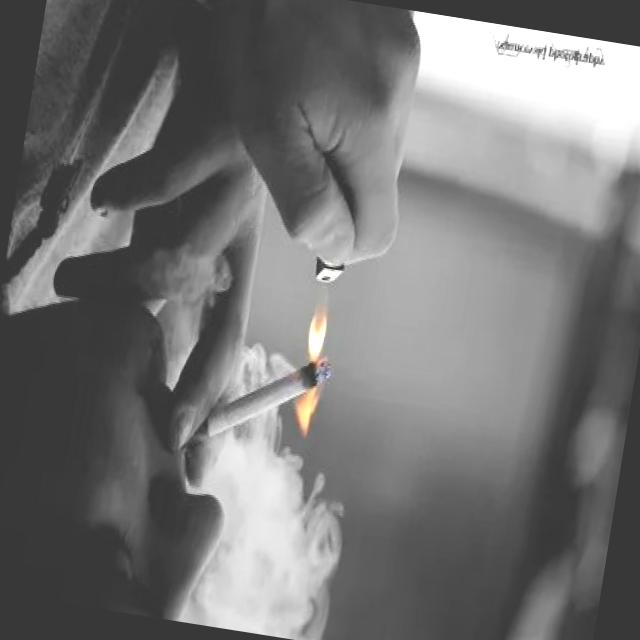smoke: (182, 334, 336, 476)
